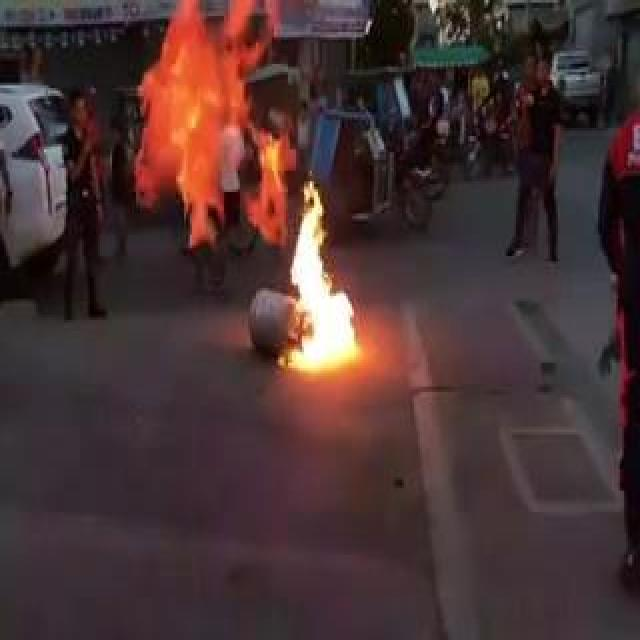Smoke: (271, 175, 367, 377)
